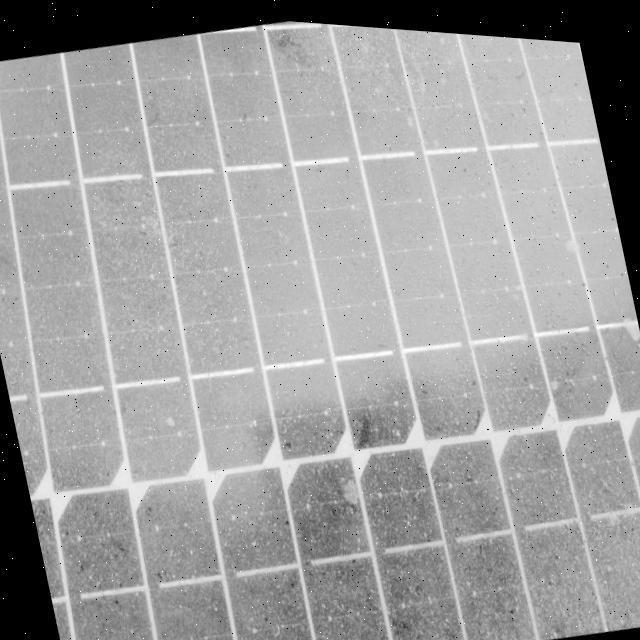Surface Contaminant: (0, 17, 640, 640)
